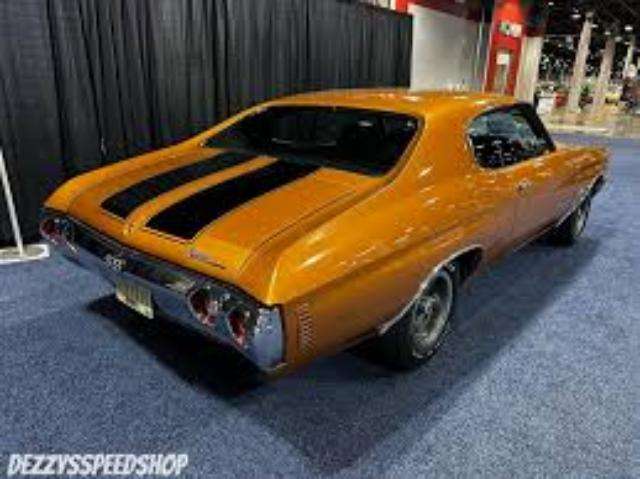chevelle-1972: (40, 89, 608, 376)
